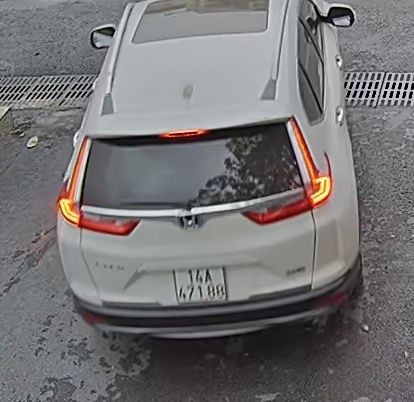vehicle plate: (167, 262, 230, 305)
